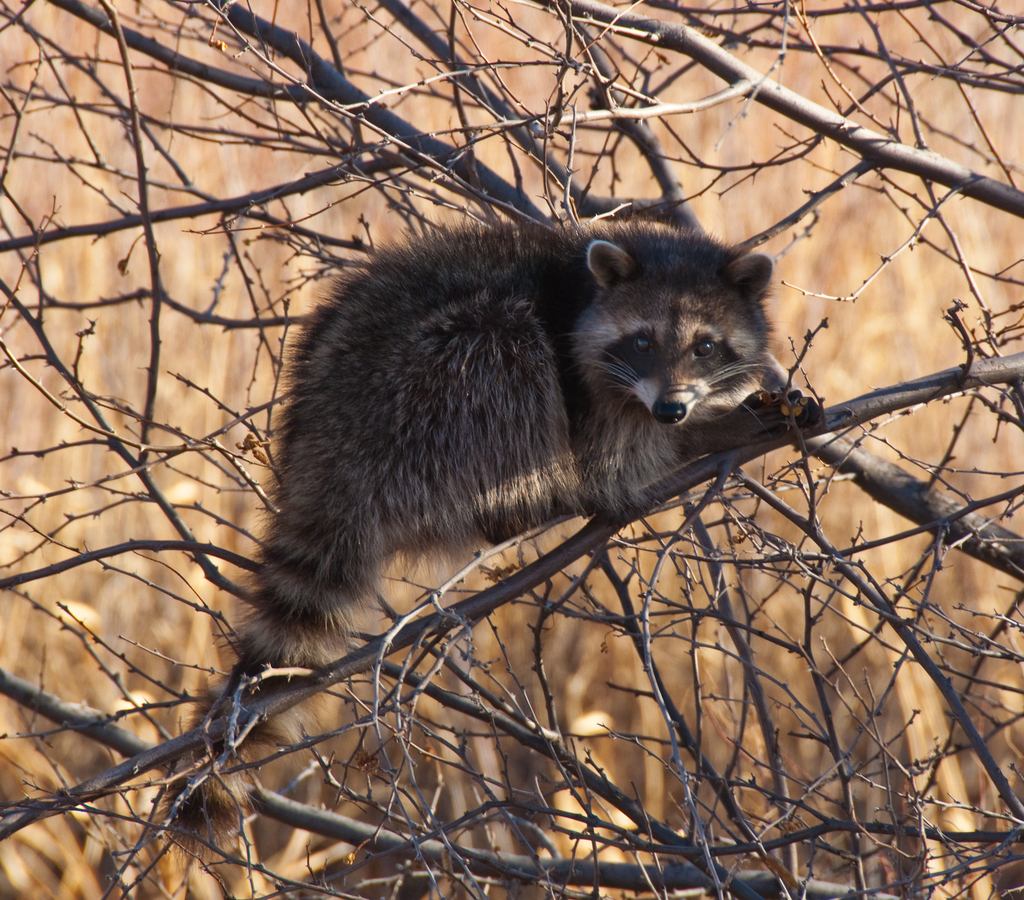raccoon: (266, 228, 778, 663)
